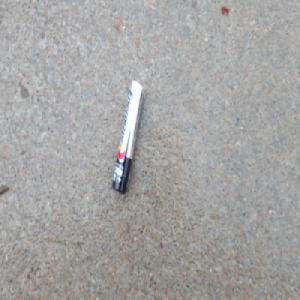Battery: (111, 78, 143, 194)
